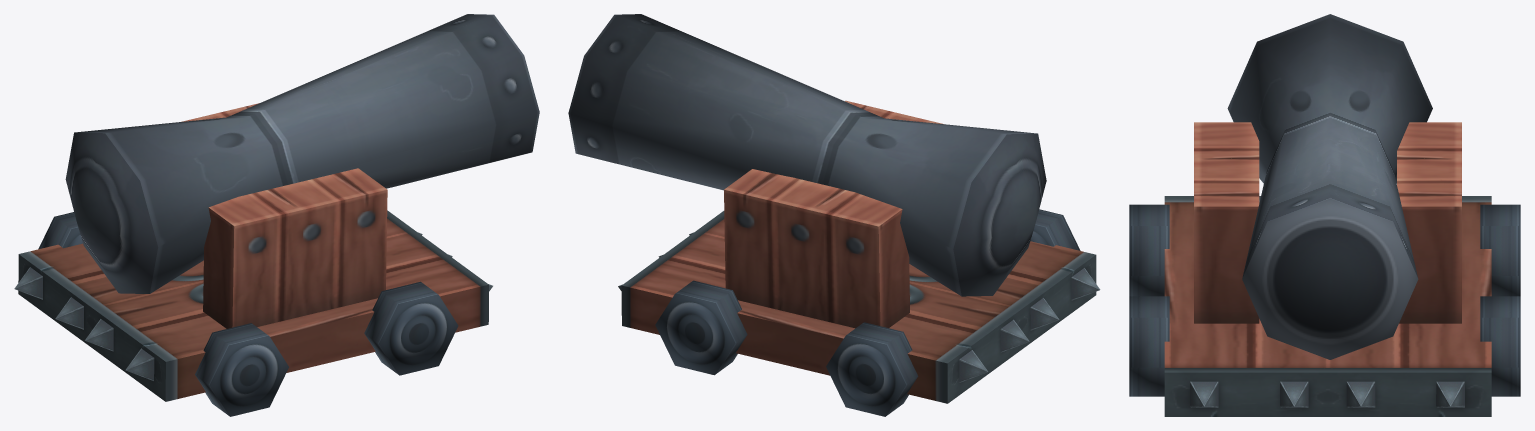
Rendered from cannon_02.fbx.
3 renders of one model, left to right at view 1: azimuth 30°, elevation 25°; view 2: azimuth 150°, elevation 25°; view 3: azimuth 270°, elevation 25°, orthographic. The views are drawn at different scales.
Visible parts, largest first — view 1: cannon_02:Mesh; view 2: cannon_02:Mesh; view 3: cannon_02:Mesh.
Part boxes in pixels (box(x1,y1,x2,y2)): cannon_02:Mesh: box(14, 14, 539, 416); cannon_02:Mesh: box(568, 14, 1100, 416); cannon_02:Mesh: box(1129, 14, 1520, 416).
Size of the model in its own units: 1.32 by 0.7188 by 0.9207.
1 material, 1 textured.
